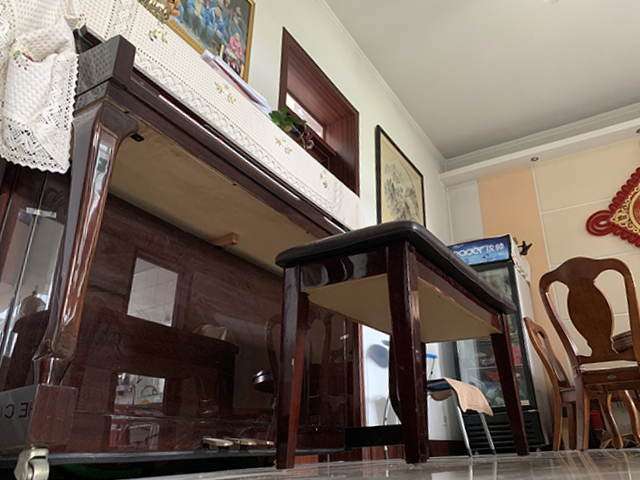stool: (272, 219, 533, 471), (538, 252, 640, 453), (383, 351, 499, 461), (524, 314, 613, 451)
